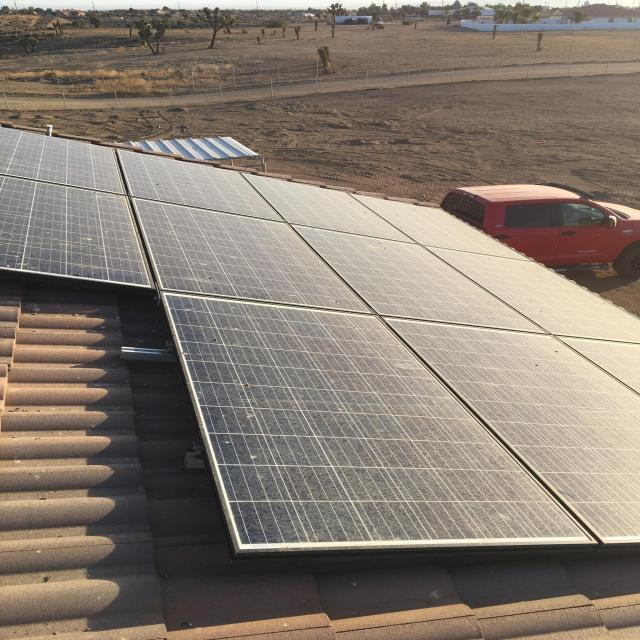dust-solar-panel: (0, 122, 637, 549)
